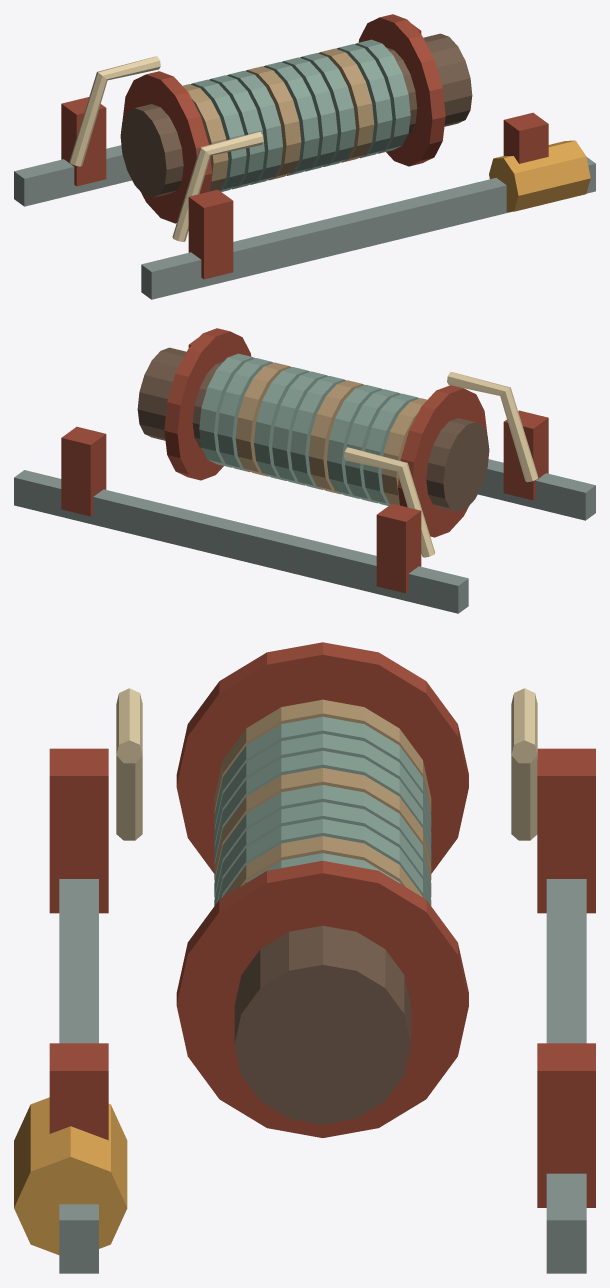
The model's file is net_winch.glb.
3 renders of one model, top to bottom at view 1: azimuth 30°, elevation 25°; view 2: azimuth 150°, elevation 25°; view 3: azimuth 270°, elevation 25°, orthographic. The views are drawn at different scales.
Visible parts, largest first — view 1: net_winch; view 2: net_winch; view 3: net_winch.
Part boxes in pixels (x1,y1,x2,y2): net_winch: (14,14,595,299); net_winch: (14,328,595,613); net_winch: (14,642,595,1273).
Size of the model in its own units: 2.34 by 0.763 by 1.38.
